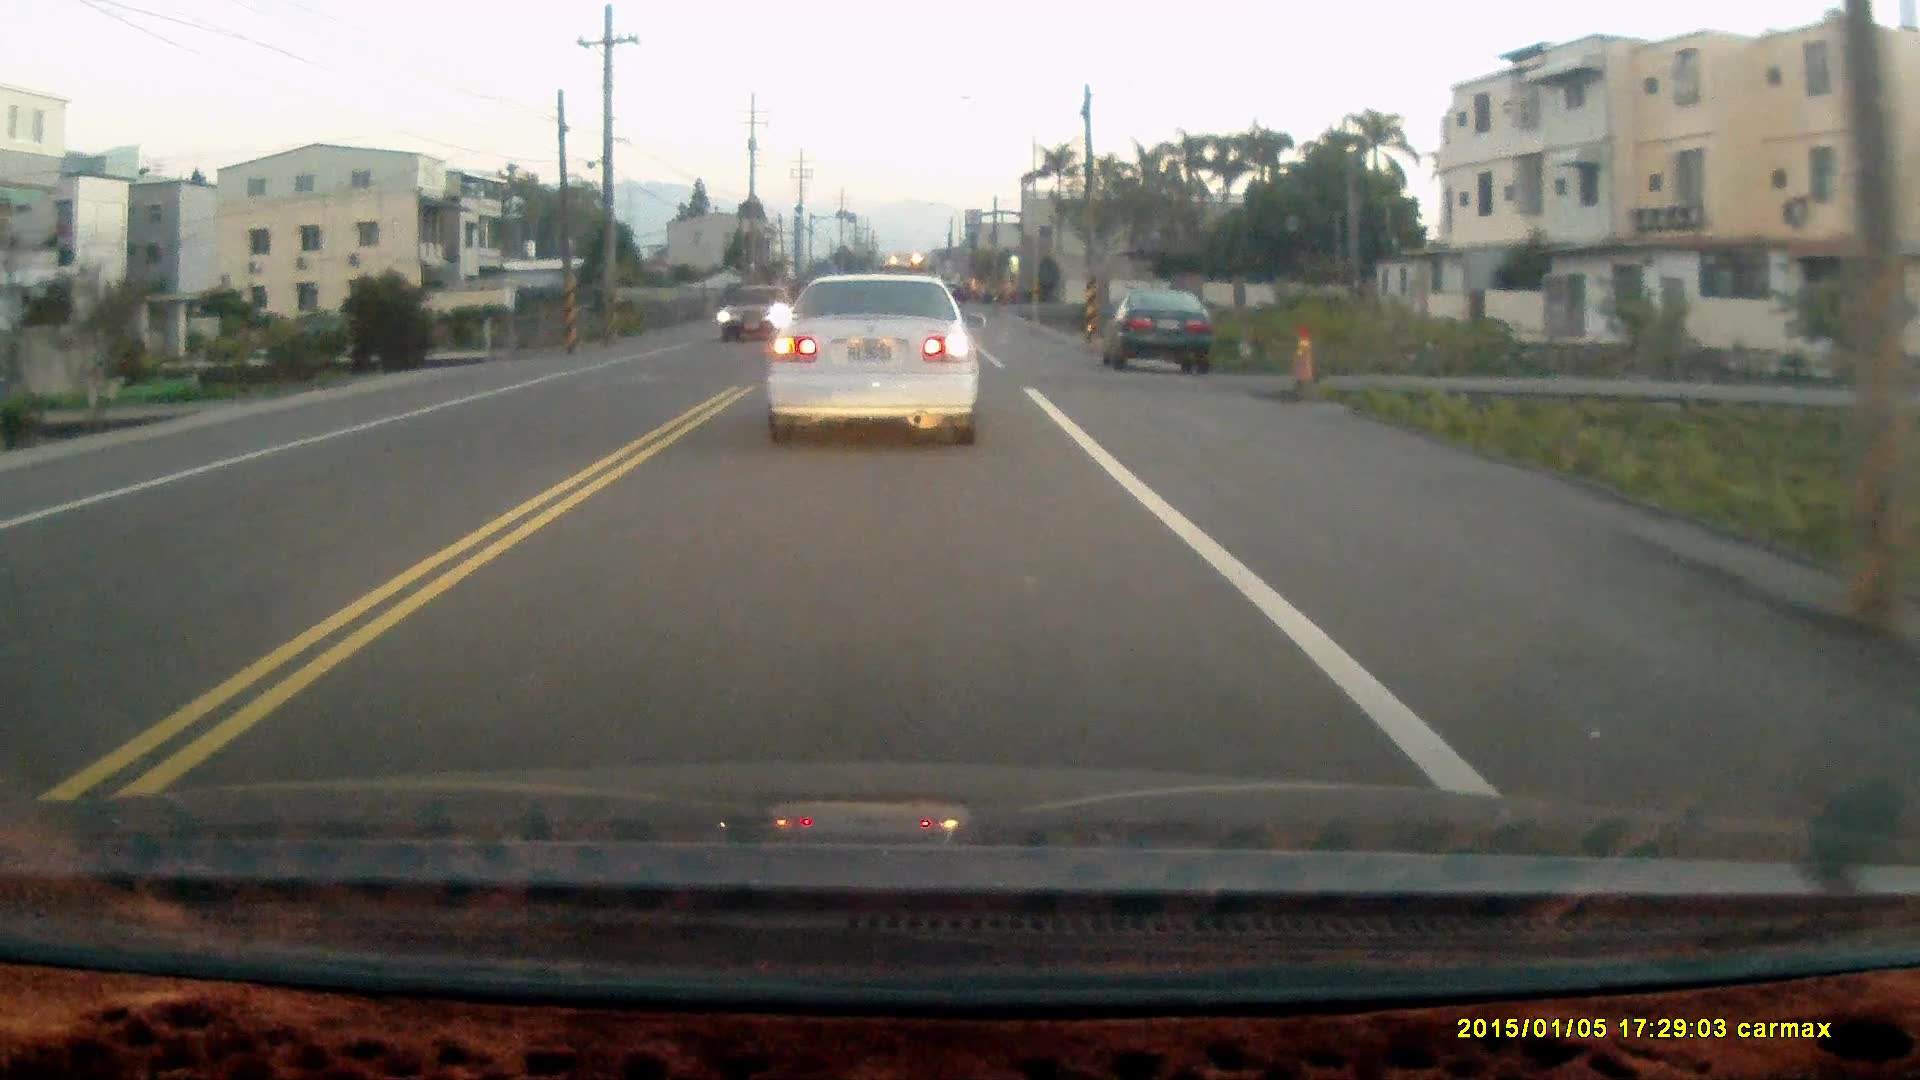vehicle: (764, 269, 981, 451), (1109, 290, 1218, 380), (719, 285, 793, 347)
